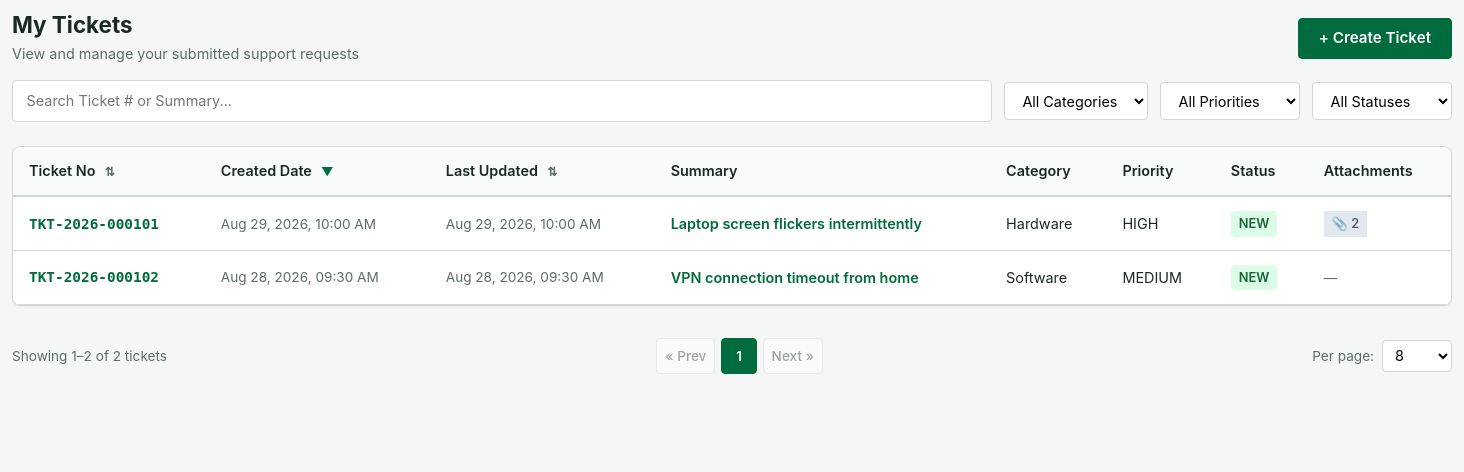
Test case: My Tickets Screen (Issue 7) › UI-07: Distinct Empty vs No-Results States › AC-20: renders distinct No-Results State when filters match 0 tickets and allows clearing filters
Expected: the text "TKT-2026-000101" is shown, [29,216,159,232]
# Search for nonexistent ticket
Type "nonexistent" into the field with placeholder "Search Ticket # or Summary..." at (502, 101), box [12,80,992,122]
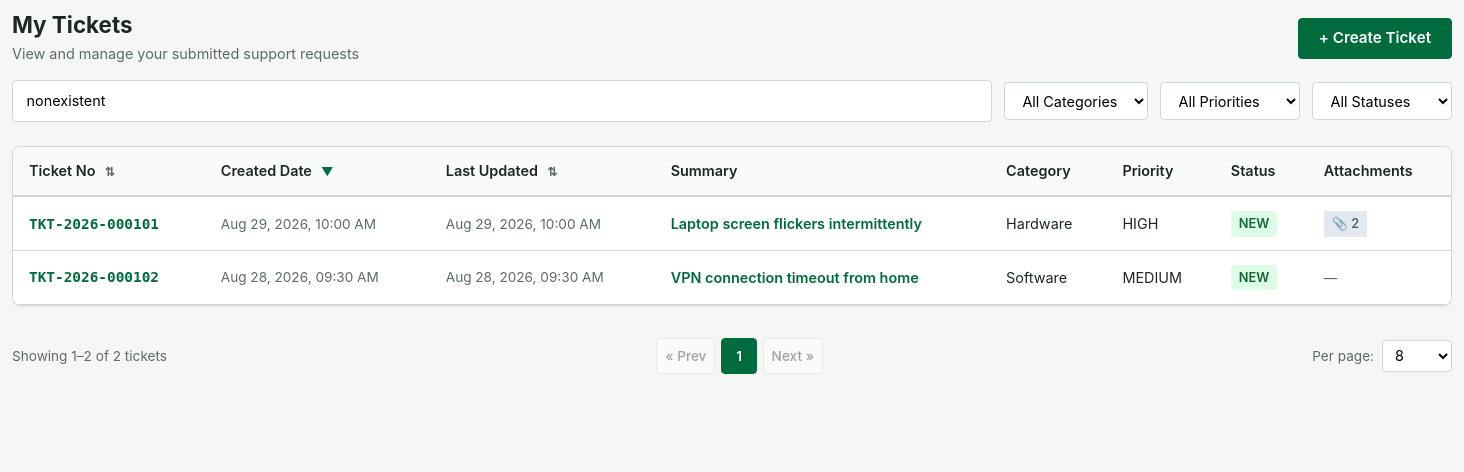
Submit the form with placeholder "Search Ticket # or Summary...", box [12,80,992,122]
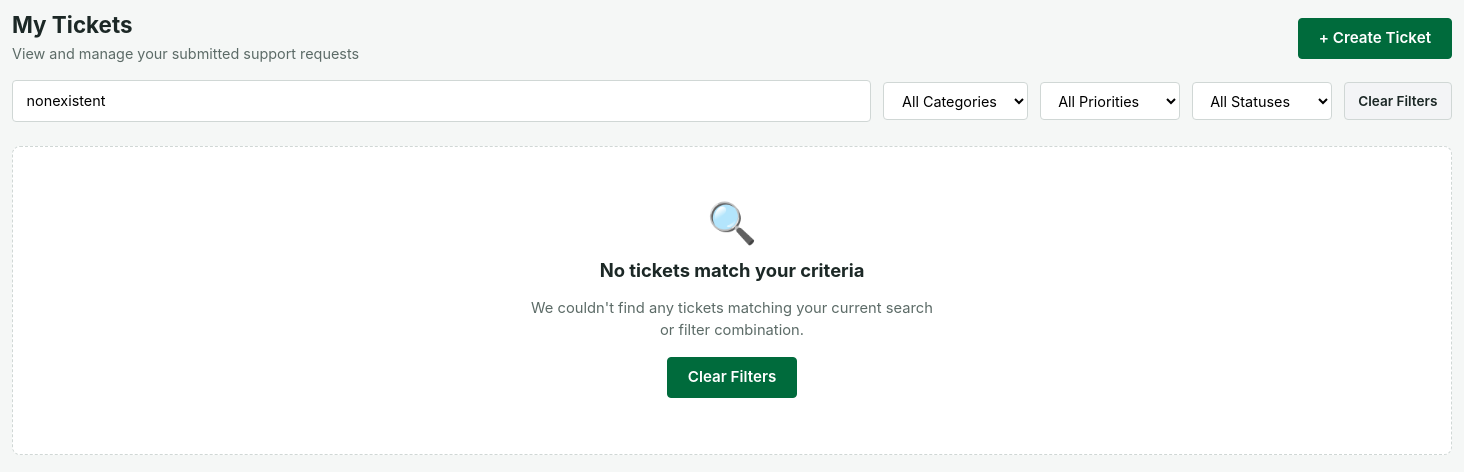
Now the element with test id "no-results-state" is shown
Now the heading "No tickets match your criteria" is shown, box [600,259,864,281]
# Click "Clear Filters"
Click the button "Clear Filters" below "No tickets match your criteria" at (732, 377), box [667,357,797,398]
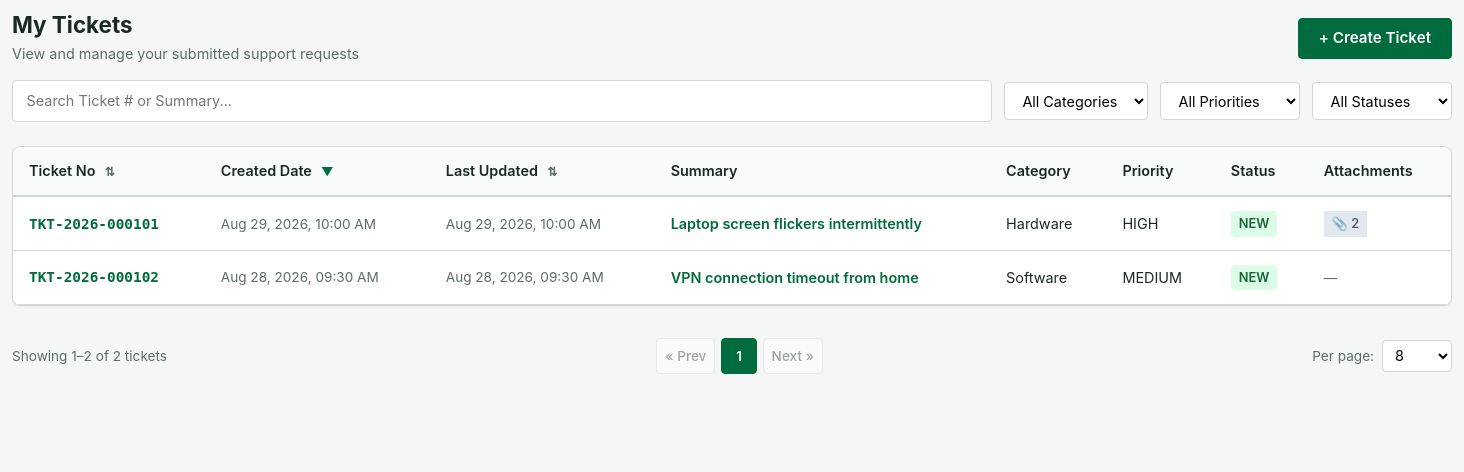
Now the text "TKT-2026-000101" is shown, box [29,216,159,232]
